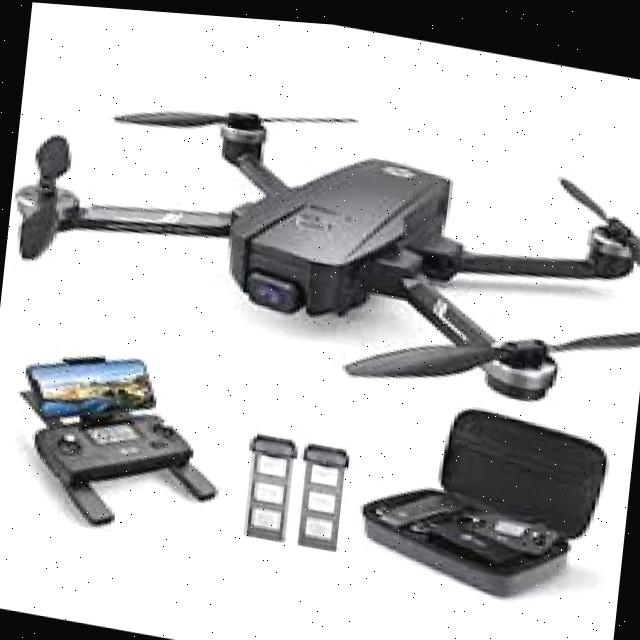drone: (0, 37, 640, 433)
